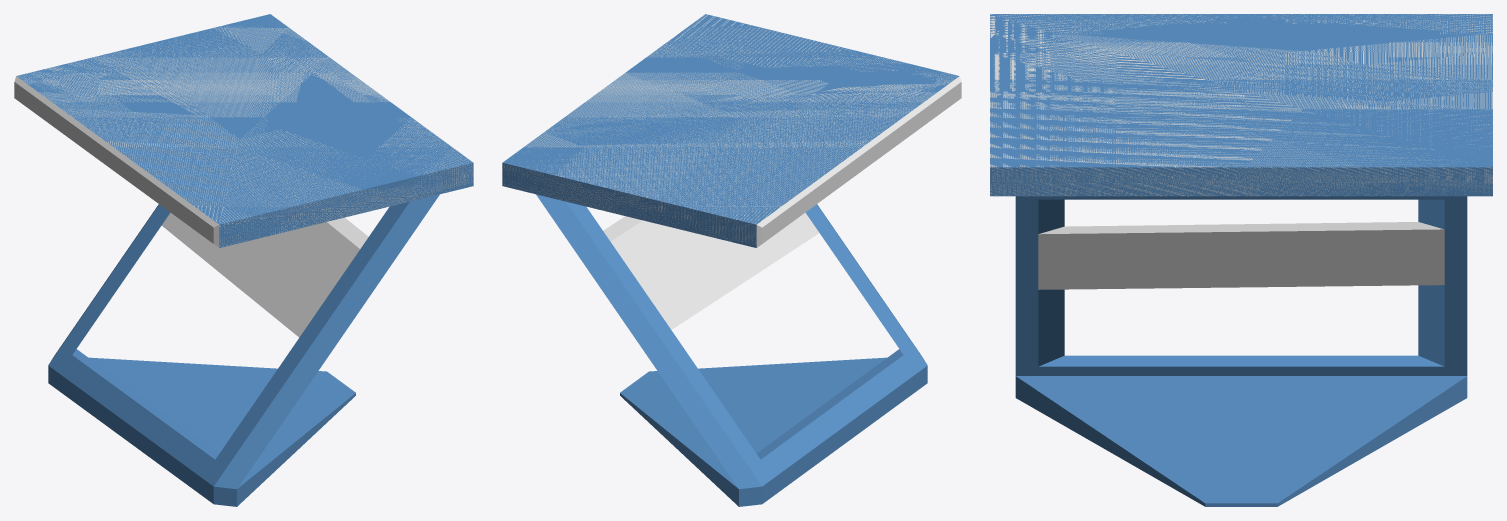
Rendered from modernTable.fbx.
The picture shows the model from 3 angles, left to right: view 1: azimuth 30°, elevation 25°; view 2: azimuth 150°, elevation 25°; view 3: azimuth 270°, elevation 25°; orthographic projection. The views are drawn at different scales.
Parts seen in each view (by area): view 1: randomTable; view 2: randomTable; view 3: randomTable.
Boxes of the visible parts, x1,y1,x2,y2 form: randomTable: (14,14,473,506); randomTable: (502,14,961,506); randomTable: (990,14,1492,506).
Size of the model in its own units: 319 by 350 by 435.
